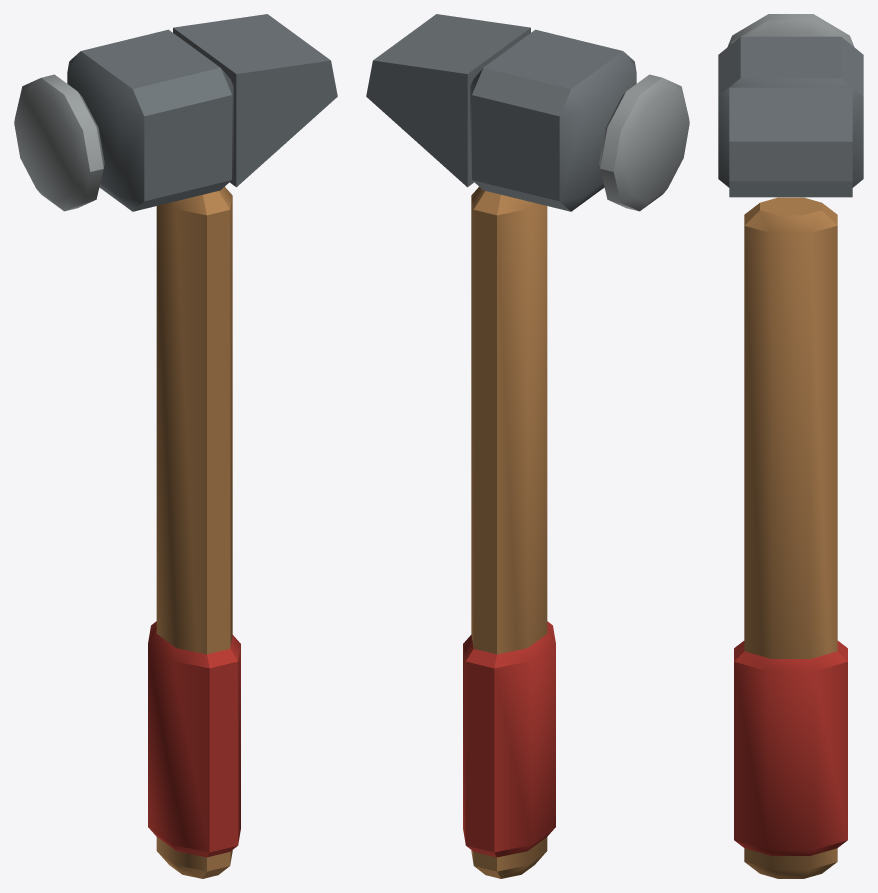
File: 101_marteau.fbx
The picture shows the model from 3 angles, left to right: view 1: azimuth 30°, elevation 25°; view 2: azimuth 150°, elevation 25°; view 3: azimuth 270°, elevation 25°; orthographic projection. The views are drawn at different scales.
Parts seen in each view (by area): view 1: Manche, Tete; view 2: Manche, Tete; view 3: Manche, Tete.
Part boxes in pixels (<box>): Manche: <box>148,187,240,878</box>; Tete: <box>14,14,337,211</box>; Manche: <box>463,187,555,878</box>; Tete: <box>366,14,689,211</box>; Manche: <box>734,197,847,878</box>; Tete: <box>718,14,863,197</box>.
Size of the model in its own units: 0.168 by 0.504 by 0.084.
Materials: 1 (1 with a texture image).
